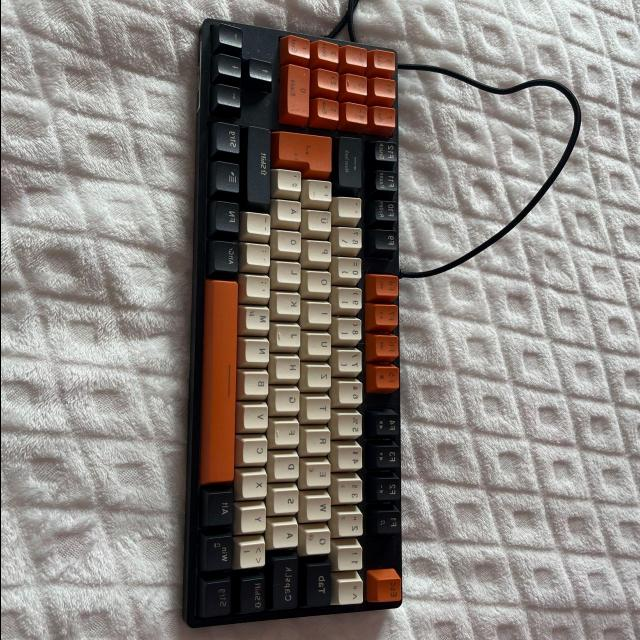0: (338, 258, 363, 282)
1: (338, 547, 364, 573)
2: (338, 513, 364, 539)
3: (338, 479, 364, 505)
4: (338, 446, 364, 472)
5: (338, 415, 364, 439)
6: (339, 382, 364, 406)
7: (338, 351, 364, 375)
8: (337, 320, 363, 344)
9: (338, 289, 364, 313)
a: (273, 524, 300, 551)
accent: (338, 199, 363, 221)
ae: (278, 202, 304, 225)
alt-left: (206, 492, 235, 528)
altgr-right: (214, 242, 240, 274)
b: (245, 373, 271, 399)
c: (244, 439, 270, 466)
caret: (339, 581, 365, 607)
comma: (247, 277, 272, 301)
d: (275, 456, 301, 482)
del: (338, 138, 364, 190)
e: (307, 464, 333, 490)
enter: (278, 132, 334, 176)
f: (275, 422, 301, 448)
g: (276, 389, 302, 415)
h: (276, 358, 302, 382)
hash: (278, 171, 303, 194)
i: (309, 304, 333, 327)
j: (277, 326, 303, 350)
k: (277, 294, 303, 318)
keyboard: (181, 11, 405, 633)
l: (277, 263, 303, 287)
less: (240, 541, 267, 571)
m: (246, 308, 272, 334)
minus: (248, 214, 272, 238)
n: (246, 340, 272, 365)
o: (308, 273, 333, 296)
oe: (278, 232, 303, 255)
p: (309, 242, 333, 264)
plus: (309, 182, 334, 204)
point: (247, 245, 271, 269)
q: (306, 530, 333, 558)
r: (307, 431, 333, 456)
s: (274, 490, 300, 516)
shift-left: (240, 578, 266, 616)
shift-lock: (272, 559, 299, 613)
shift-right: (248, 128, 272, 206)
space: (201, 279, 239, 488)
ss: (338, 229, 363, 251)
strg-left: (204, 581, 232, 619)
strg-right: (216, 123, 241, 157)
t: (307, 398, 333, 422)
tab: (307, 566, 333, 610)
u: (308, 334, 333, 358)
ue: (308, 211, 334, 234)
v: (244, 406, 270, 432)
w: (307, 497, 333, 523)
x: (243, 474, 269, 500)
y: (242, 508, 268, 535)
z: (308, 366, 333, 390)
